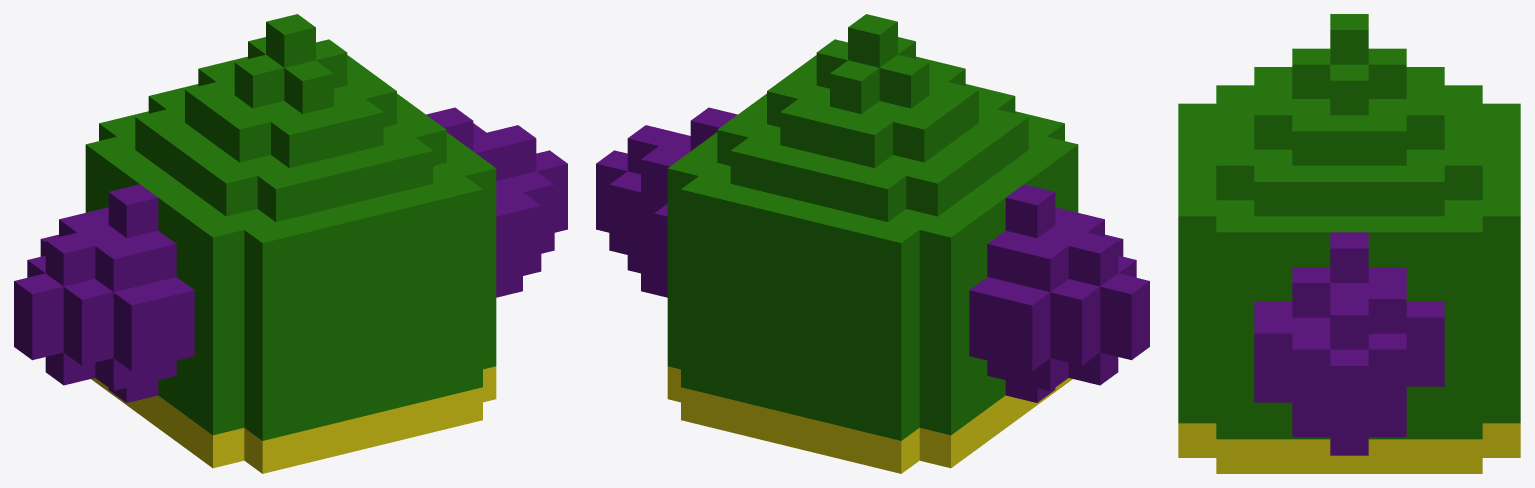
Rendered from Grasslandbossbody.gltf.
3 renders of one model, left to right at view 1: azimuth 30°, elevation 25°; view 2: azimuth 150°, elevation 25°; view 3: azimuth 270°, elevation 25°, orthographic. The views are drawn at different scales.
Visible parts, largest first — view 1: Layer.1, Layer.2; view 2: Layer.1, Layer.2; view 3: Layer.1, Layer.2.
Part boxes in pixels (left/top/right/bottom): Layer.1: left=85, top=14, right=496, bottom=473; Layer.2: left=14, top=107, right=567, bottom=402; Layer.1: left=667, top=14, right=1078, bottom=473; Layer.2: left=596, top=107, right=1149, bottom=402; Layer.1: left=1178, top=14, right=1520, bottom=473; Layer.2: left=1254, top=232, right=1444, bottom=455.
Size of the model in its own units: 17 by 11 by 9.
Materials: 1 (1 with a texture image).
